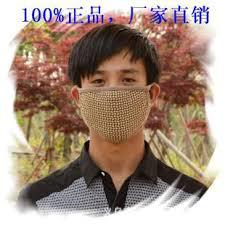OK: (79, 69, 152, 142)
